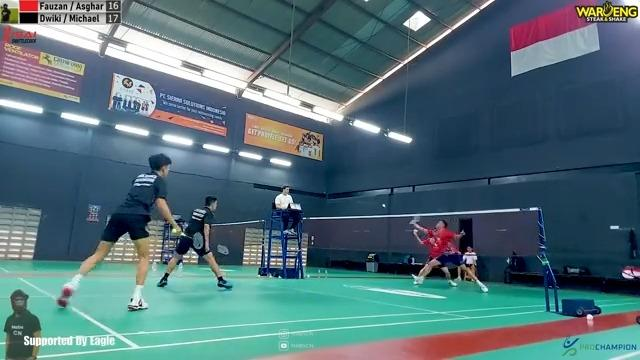Shuttlecock: (380, 202, 388, 210)
